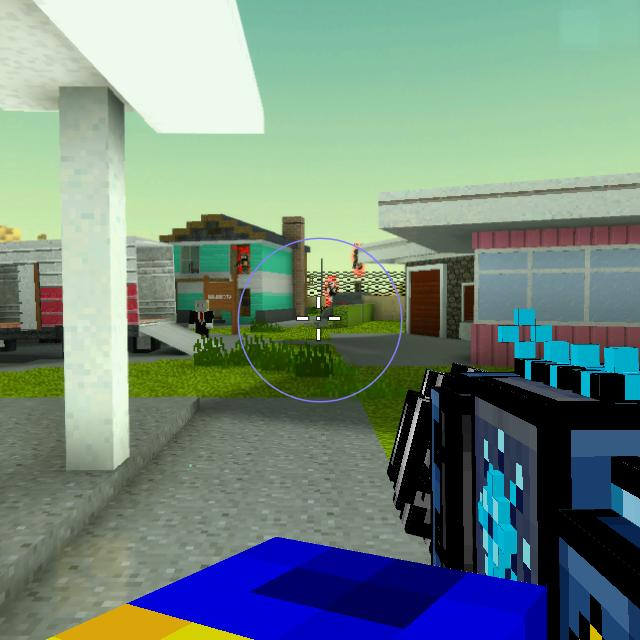Enemy: (324, 281, 336, 304), (238, 253, 249, 274), (353, 249, 362, 274)
